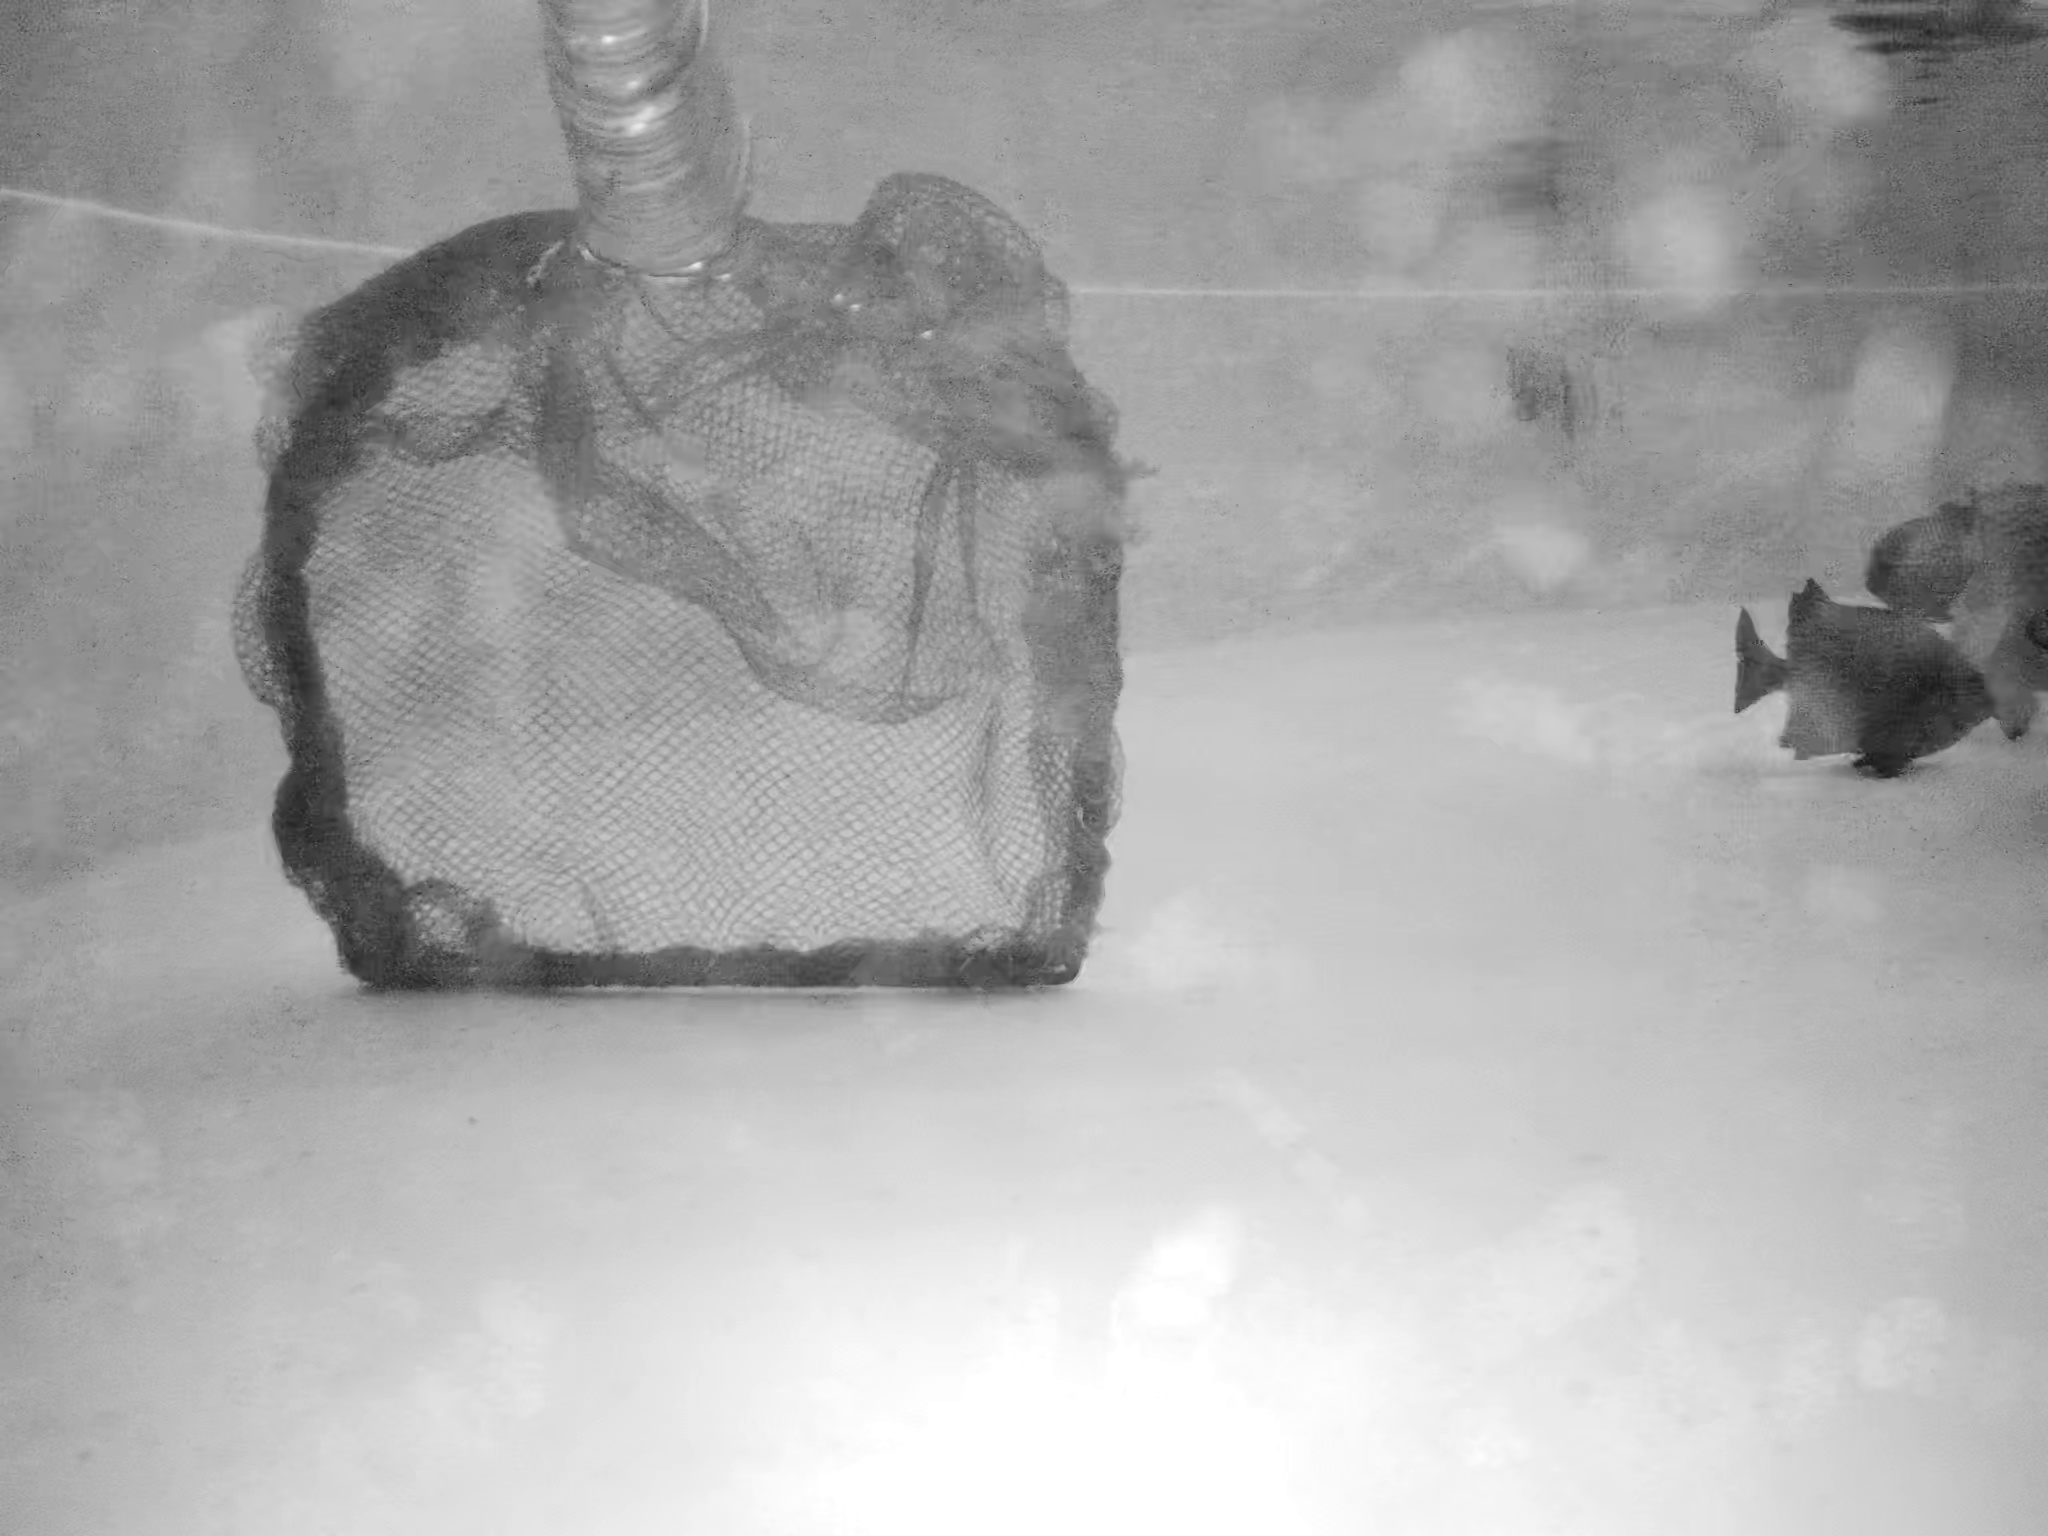fish: (1729, 591, 2009, 792), (1930, 550, 2048, 736), (1850, 499, 2008, 624)
